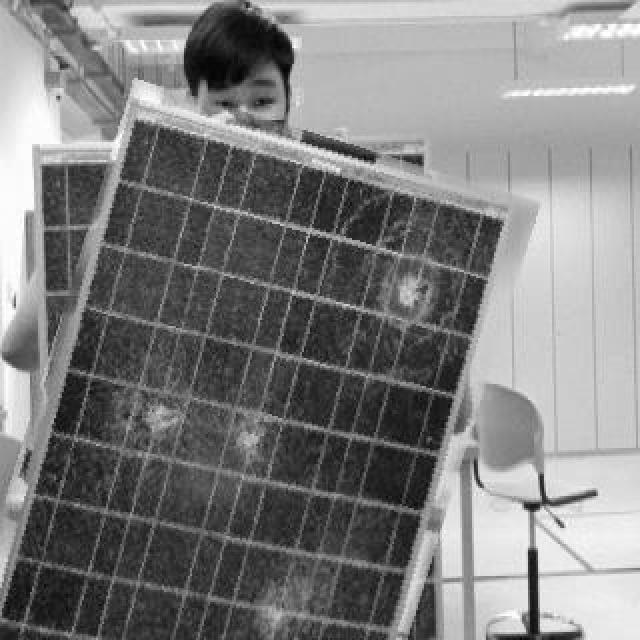Physical-damage: (362, 233, 457, 357), (128, 373, 190, 470), (245, 568, 321, 640), (219, 401, 273, 481)
